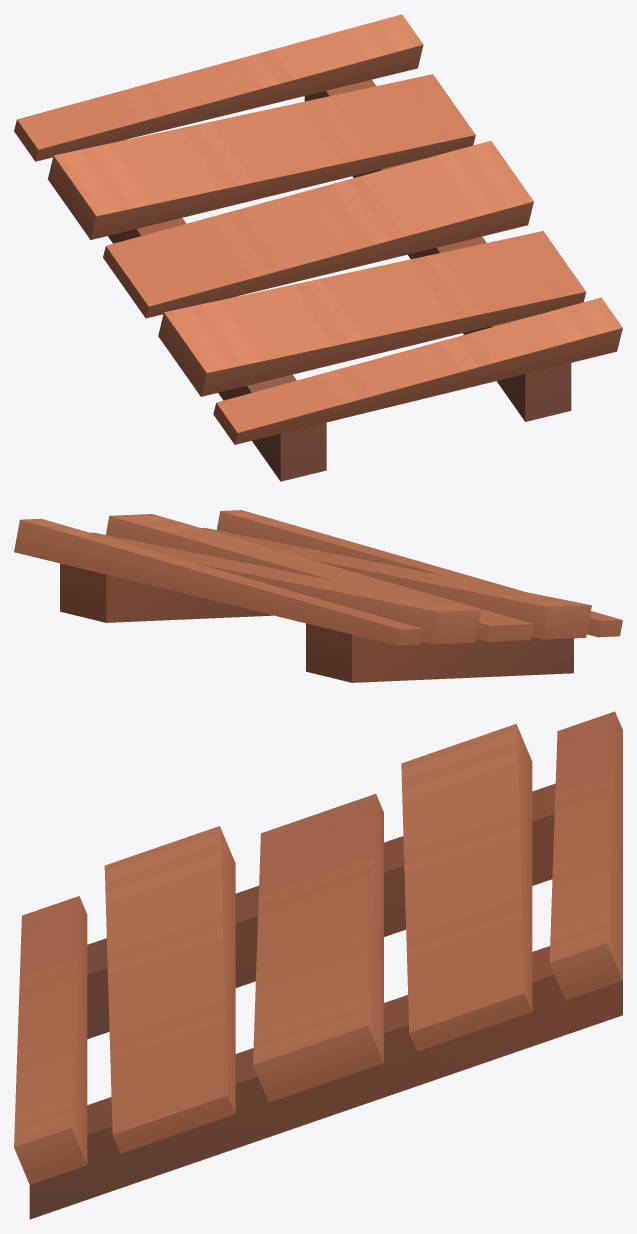
Rendered from platform-ramp.glb.
The picture shows the model from 3 angles, top to bottom: view 1: azimuth 30°, elevation 25°; view 2: azimuth 150°, elevation 25°; view 3: azimuth 270°, elevation 25°; orthographic projection. The views are drawn at different scales.
Parts seen in each view (by area): view 1: platform-ramp; view 2: platform-ramp; view 3: platform-ramp.
Part boxes in pixels (x1,y1,x2,y2): platform-ramp: [14, 14, 622, 481]; platform-ramp: [14, 510, 622, 682]; platform-ramp: [14, 711, 622, 1219].
Size of the model in its own units: 1 by 0.5701 by 1.03.
Materials: 1 (1 with a texture image).
